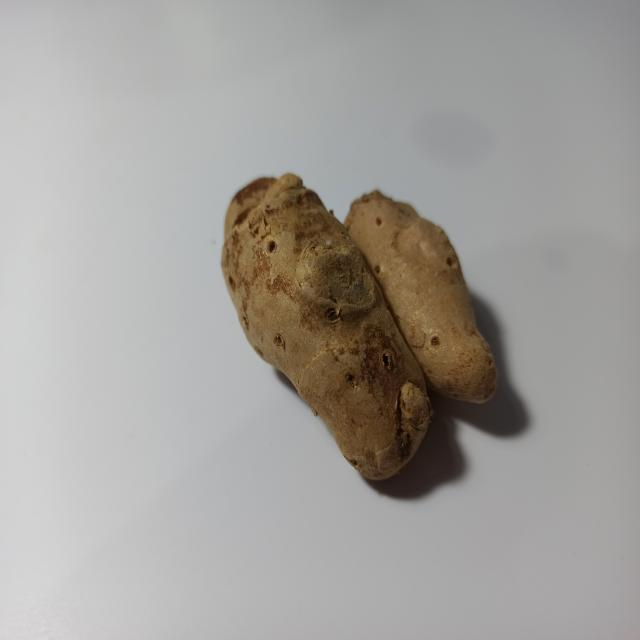ginger: (233, 166, 494, 473)
